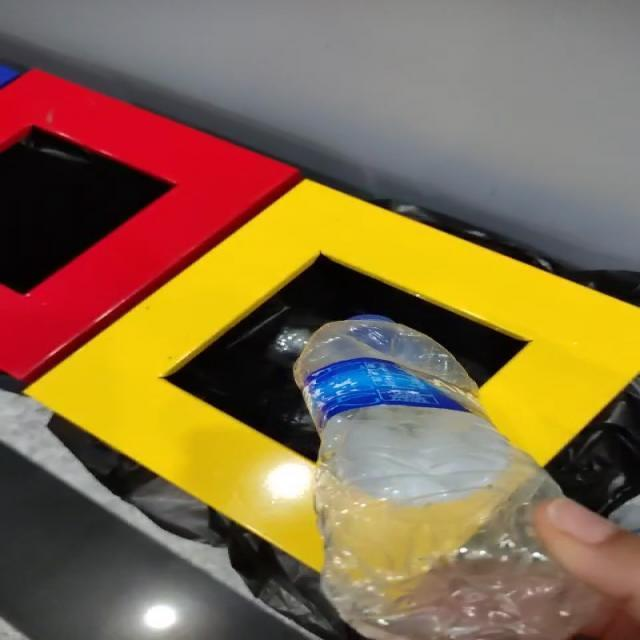Plastic: (293, 319, 599, 640)
